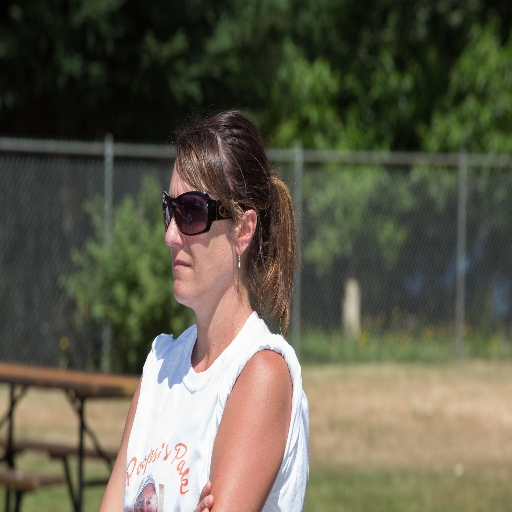hand: (195, 478, 210, 511)
